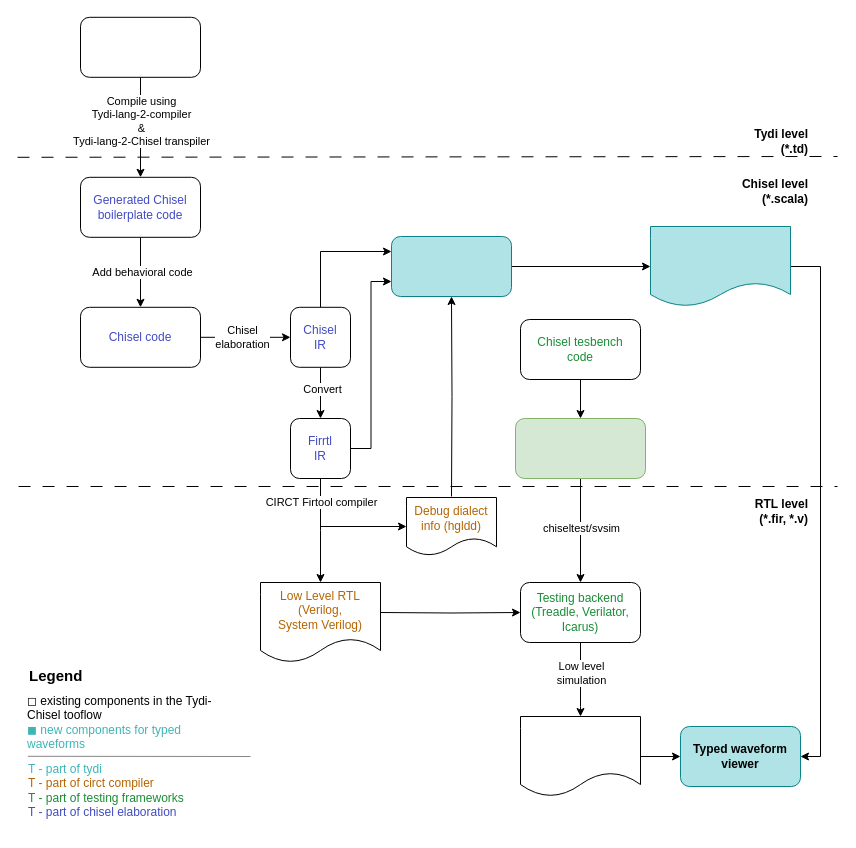
The diagram is 856 pixels wide and 848 high, and some of its shapes have lost their labels. Here are the shapes that lost their labels. From the top down, the centre of each, then its label:
point (140, 46): Tydi-lang source code
point (451, 266): Map Chisel to low level RTL
point (720, 266): Symbol table
point (580, 448): Higher level testing framework (Chiseltest/Chiselsim)
point (580, 756): Output waveform trace files (vcd, fst, lxt)
